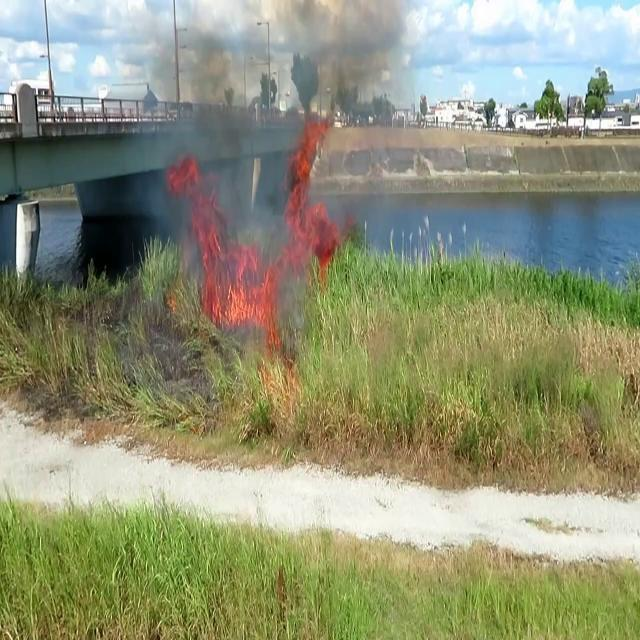Fire: (279, 108, 338, 266), (210, 255, 280, 325)
Smoke: (128, 2, 256, 270)
